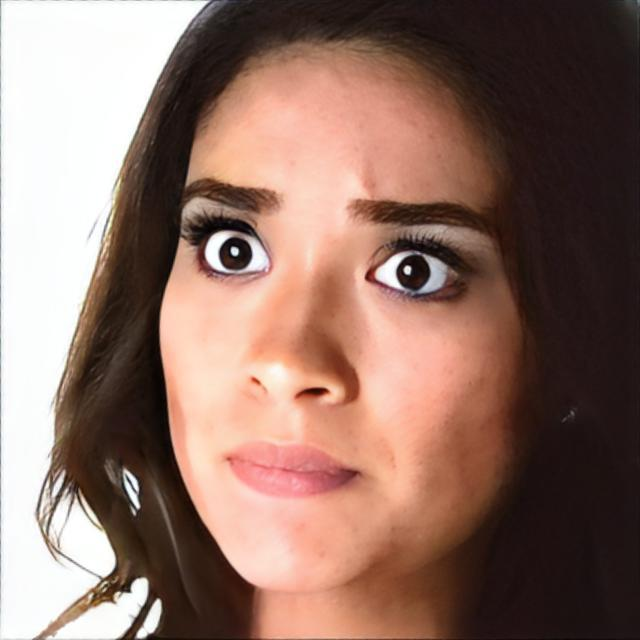fear: (158, 44, 539, 598)
